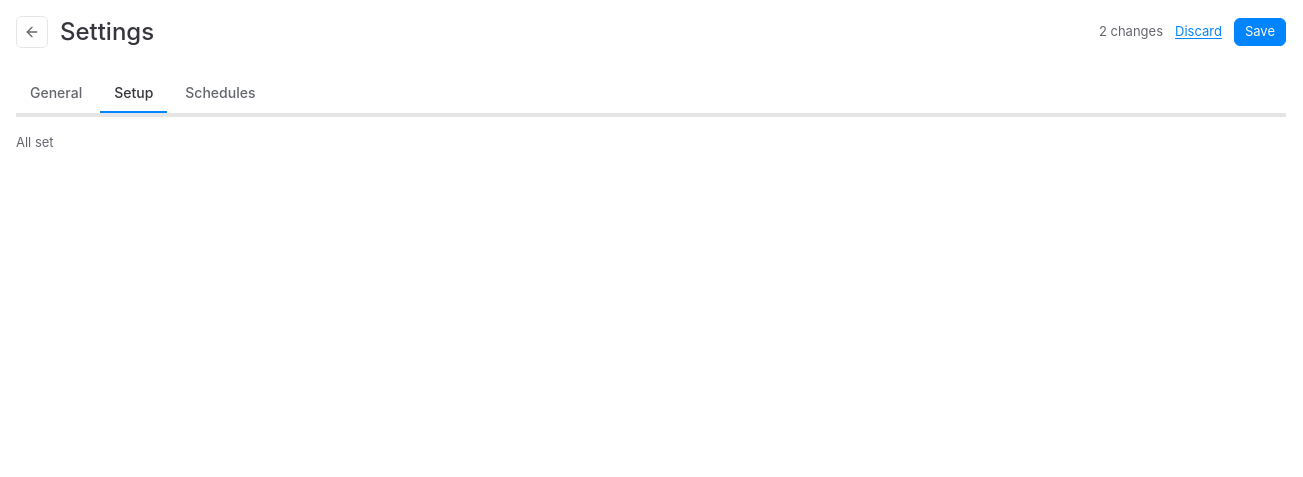
Scenario: the page header carries Save on Setup › the progress bar leaves with the Setup tab
The image size is (1303, 477).
Click the tab "General". click: (56, 94)
box: [16, 74, 96, 113]
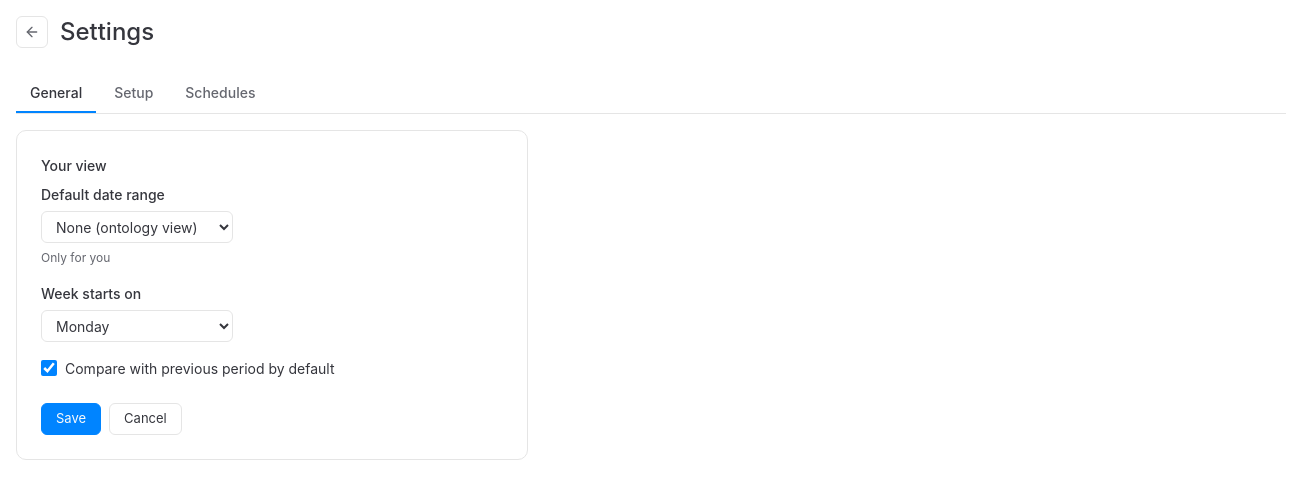
Expected: the progress indicator is gone
